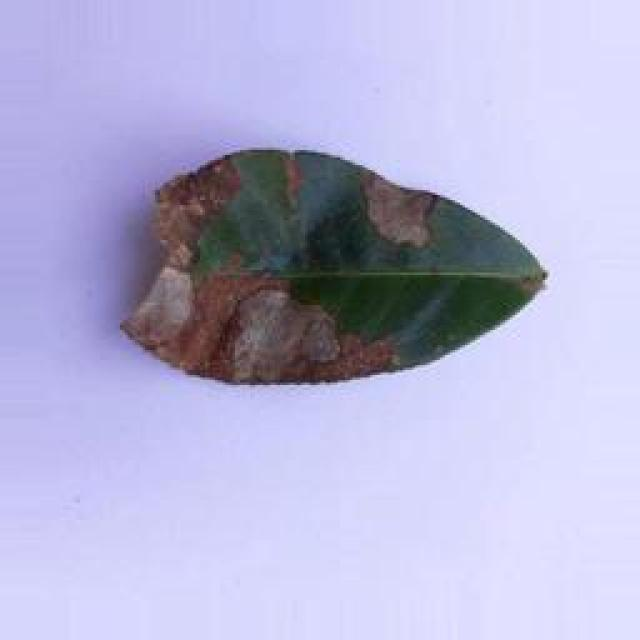Gray Blight: (115, 152, 549, 391)
